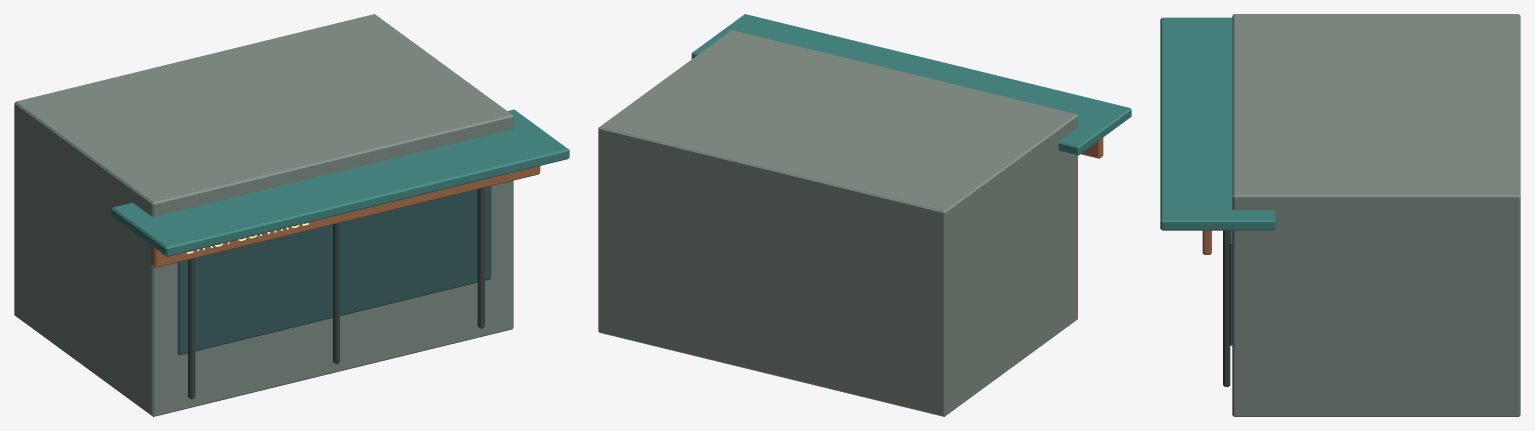
The model's file is checkpoint_bunker.glb.
3 renders of one model, left to right at view 1: azimuth 30°, elevation 25°; view 2: azimuth 150°, elevation 25°; view 3: azimuth 270°, elevation 25°, orthographic. The views are drawn at different scales.
Parts seen in each view (by area): view 1: checkpoint_bunker.001; view 2: checkpoint_bunker.001; view 3: checkpoint_bunker.001.
Part boxes in pixels (x1,y1,x2,y2): checkpoint_bunker.001: [14, 14, 569, 416]; checkpoint_bunker.001: [598, 14, 1131, 416]; checkpoint_bunker.001: [1160, 14, 1520, 416].
Bounding box in the file's own units: 6.7 × 3.4 × 5.
